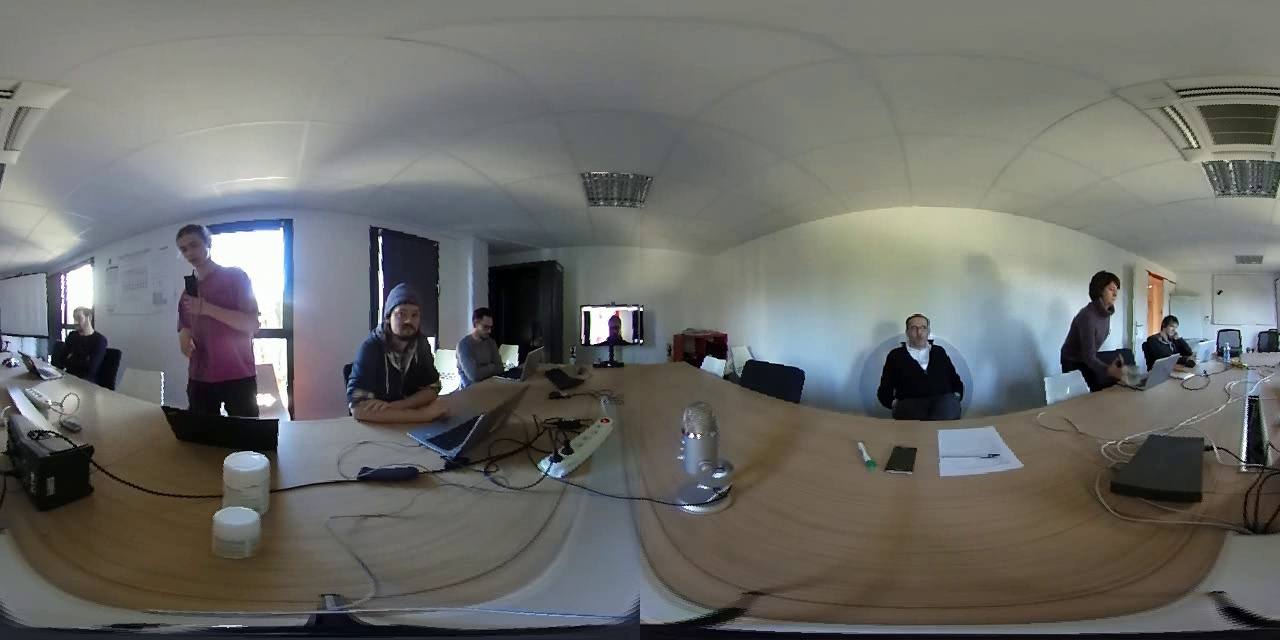person: (147, 213, 285, 401), (867, 297, 980, 422), (347, 271, 443, 410), (1053, 259, 1140, 386), (55, 298, 123, 386), (449, 298, 517, 379), (1147, 313, 1192, 358), (585, 306, 640, 338)
